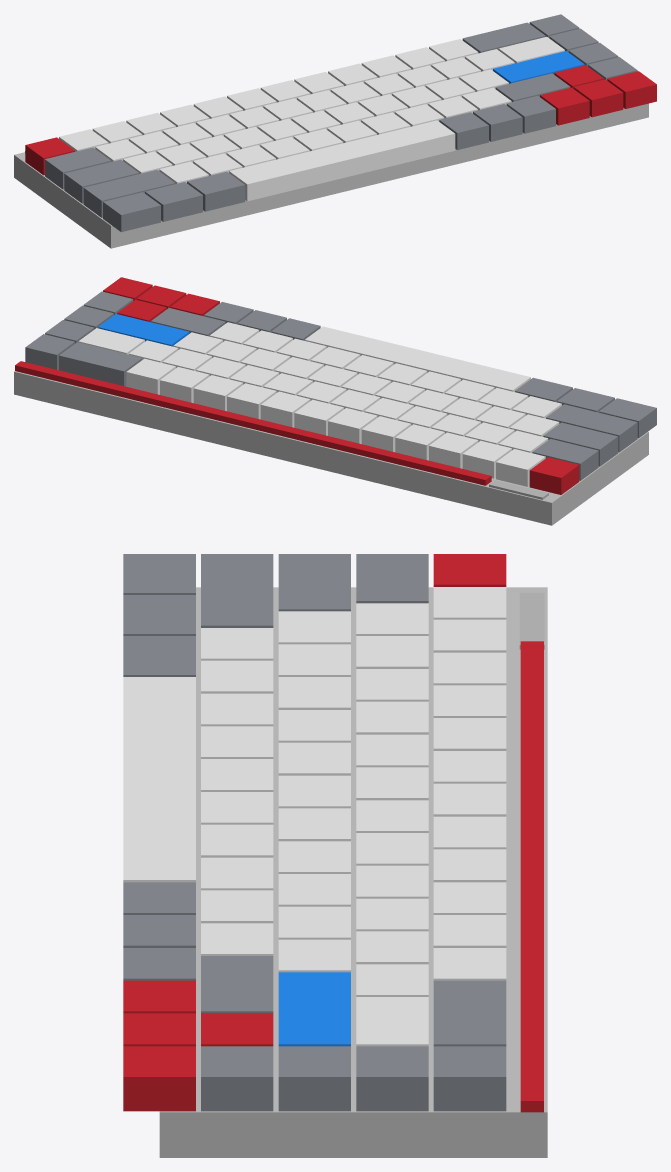
File: 01-keyboard-sick68-65p.glb
3 views of the same model, one above another, from view 1: azimuth 30°, elevation 25°; view 2: azimuth 150°, elevation 25°; view 3: azimuth 270°, elevation 25° (orthographic). The views are drawn at different scales.
Size of the model in its own units: 0.296 by 0.021 by 0.1012.
